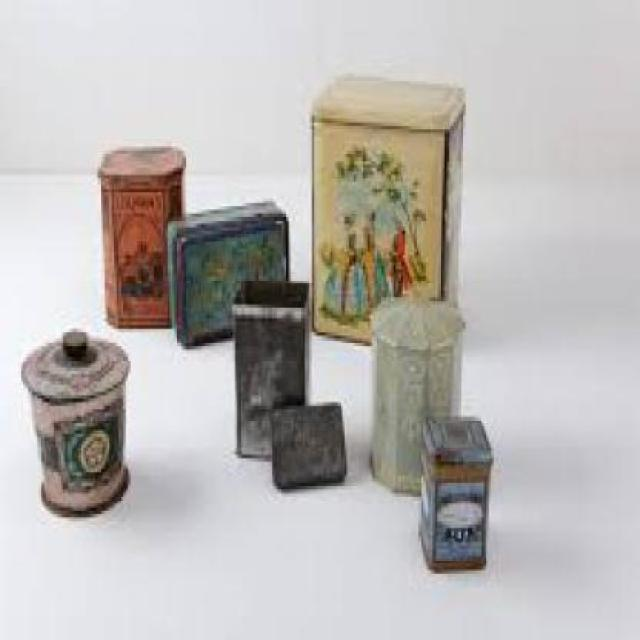METAL: (307, 69, 461, 343), (16, 328, 129, 521), (366, 294, 466, 497), (165, 196, 286, 346), (96, 143, 186, 332), (230, 276, 307, 469), (416, 412, 492, 574), (268, 398, 346, 494)
